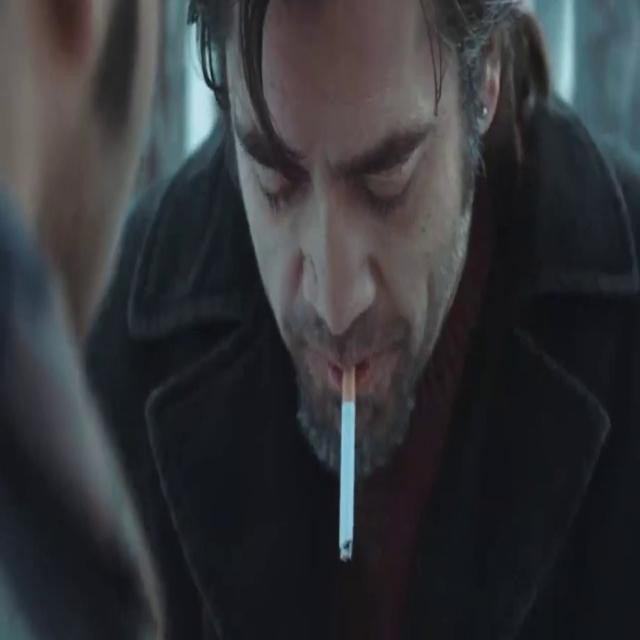Smooking: (335, 366, 365, 568)
